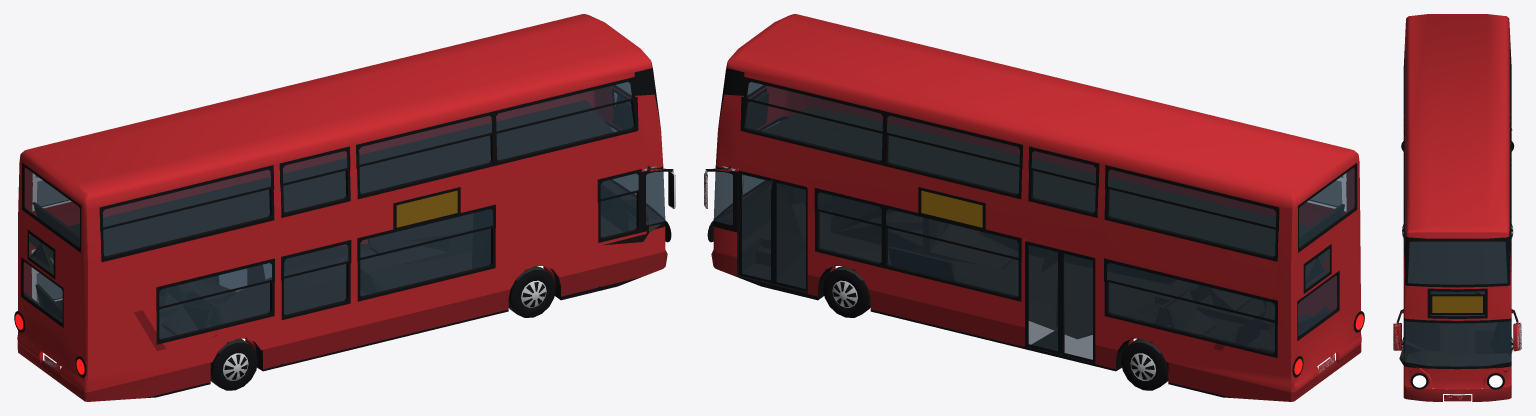
The model's file is double-decker-bus.glb.
3 views of the same model, side by side, from view 1: azimuth 30°, elevation 25°; view 2: azimuth 150°, elevation 25°; view 3: azimuth 270°, elevation 25° (orthographic). The views are drawn at different scales.
Parts seen in each view (by area): view 1: BusBody, BusGlass, BusInterior, BusTrim, BusAccent, BusStripe, BusDisplay, RR, FR; view 2: BusBody, BusGlass, BusInterior, BusTrim, BusAccent, BusStripe, BusDisplay, RL, FL; view 3: BusBody, BusGlass, BusInterior, BusTrim, BusAccent, BusDisplay, BusStripe, BusHeadlight, BusMetal.
Part boxes in pixels (box(x1,y1,x2,y2)): BusBody: box(17, 14, 673, 392); BusGlass: box(23, 82, 665, 338); BusInterior: box(24, 96, 664, 338); BusTrim: box(14, 67, 673, 398); BusAccent: box(17, 250, 667, 401); BusStripe: box(85, 63, 652, 376); BusDisplay: box(396, 190, 457, 227); RR: box(210, 338, 248, 383); FR: box(508, 266, 546, 311); BusBody: box(704, 14, 1361, 392); BusGlass: box(713, 82, 1354, 359); BusInterior: box(714, 92, 1344, 352); BusTrim: box(704, 67, 1364, 398); BusAccent: box(711, 250, 1361, 401); BusStripe: box(726, 63, 1332, 376); BusDisplay: box(921, 190, 982, 227); RL: box(1130, 338, 1168, 383); FL: box(832, 266, 870, 311); BusBody: box(1393, 14, 1520, 389); BusGlass: box(1403, 35, 1511, 366); BusInterior: box(1399, 129, 1512, 372); BusTrim: box(1393, 33, 1521, 389); BusAccent: box(1403, 385, 1511, 401); BusDisplay: box(1432, 296, 1482, 312); BusStripe: box(1406, 233, 1509, 237); BusHeadlight: box(1412, 375, 1502, 387); BusMetal: box(1393, 321, 1521, 399).
Bounding box in the file's own units: 11.62 × 4.34 × 2.79.
